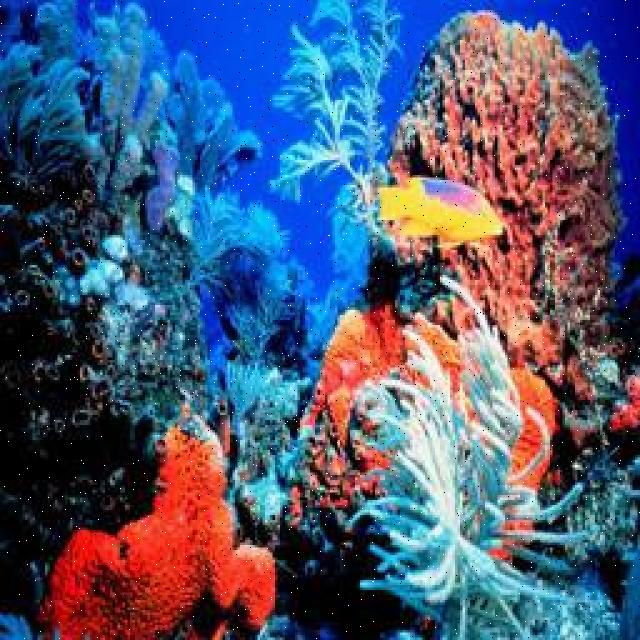aquatic plants: (260, 1, 408, 204)
fish: (373, 176, 503, 252)
reefs: (345, 298, 591, 638), (35, 411, 277, 638), (2, 3, 171, 210)
